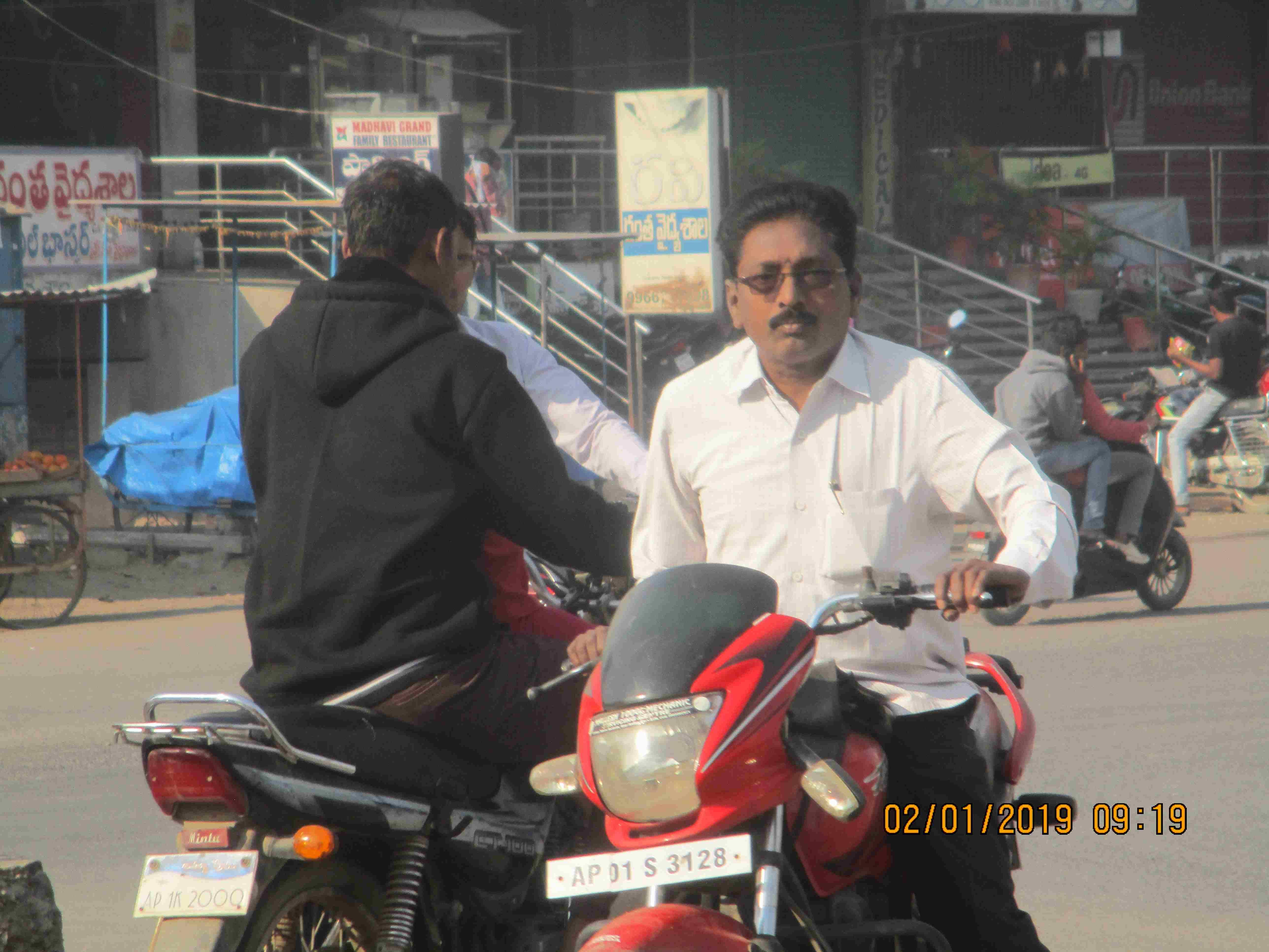plate: (545, 834, 754, 904), (130, 850, 262, 925)
